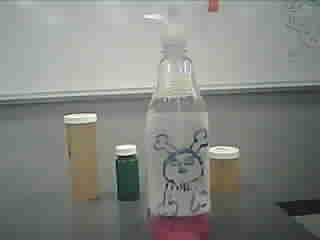Bottle A: (58, 110, 107, 208)
Bottle B: (206, 138, 246, 201)
Bottle C: (112, 139, 148, 205)
hazard: (138, 5, 223, 239)
